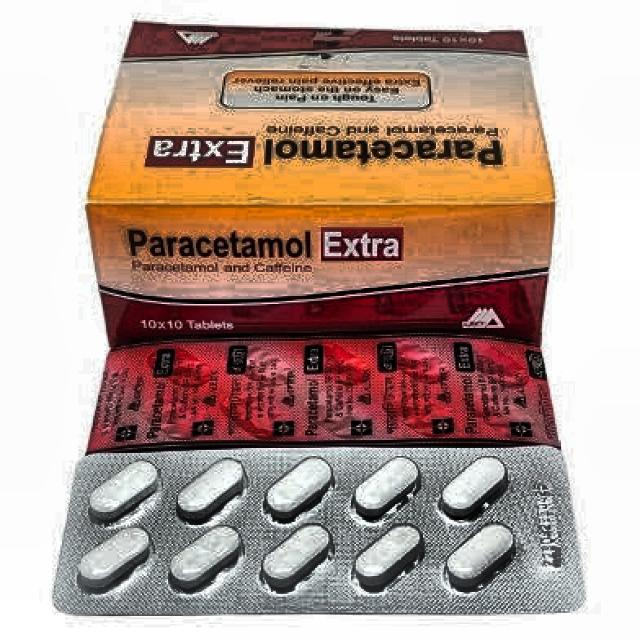Paracetamol: (112, 220, 324, 284)
